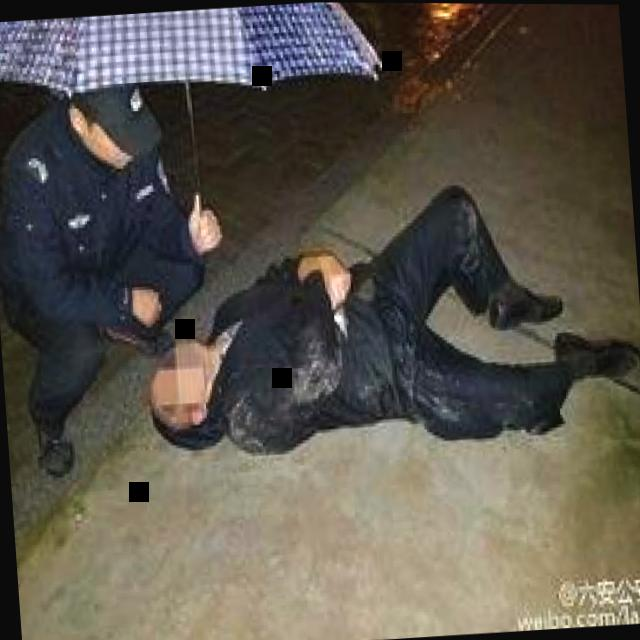Fall-Detected: (136, 155, 640, 493)
